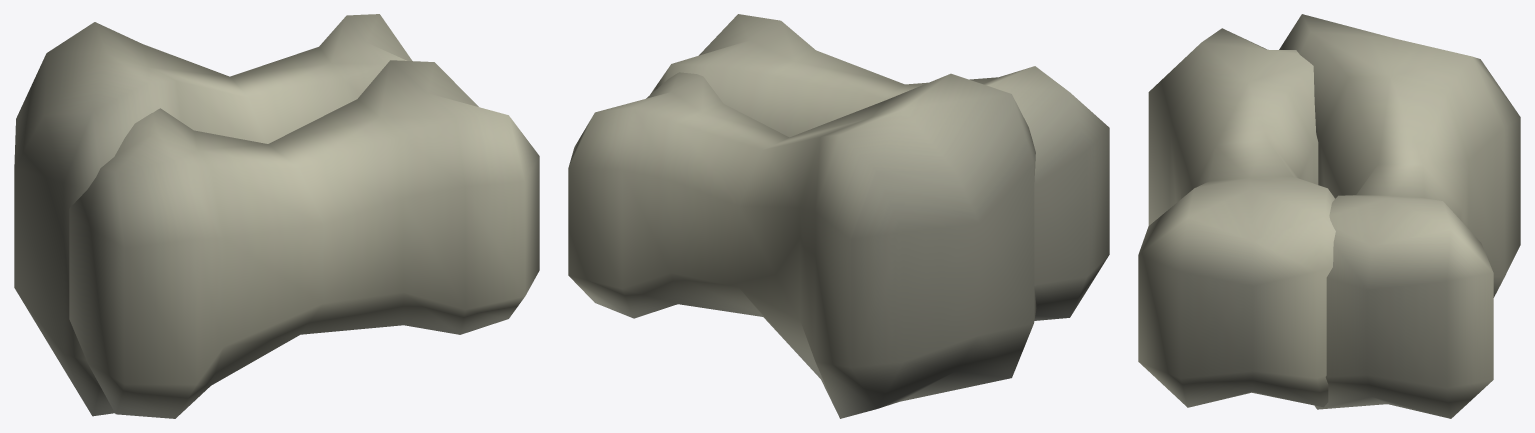
The model's file is deco_bone_4.fbx.
3 views of the same model, side by side, from view 1: azimuth 30°, elevation 25°; view 2: azimuth 150°, elevation 25°; view 3: azimuth 270°, elevation 25° (orthographic). The views are drawn at different scales.
Parts seen in each view (by area): view 1: deco_bone_4; view 2: deco_bone_4; view 3: deco_bone_4.
Boxes of the visible parts, x1=… form: deco_bone_4: x1=14, y1=14, x2=539, y2=418; deco_bone_4: x1=568, y1=14, x2=1109, y2=418; deco_bone_4: x1=1138, y1=14, x2=1520, y2=418.
Bounding box in the file's own units: 32.53 × 23.31 × 26.6.
